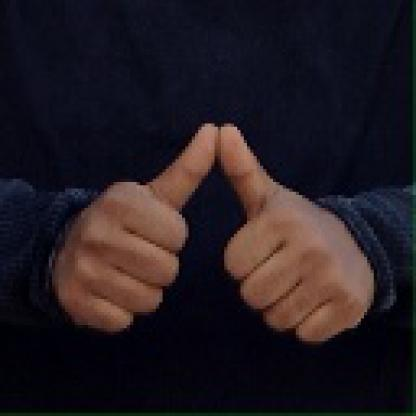A: (38, 110, 379, 348)
